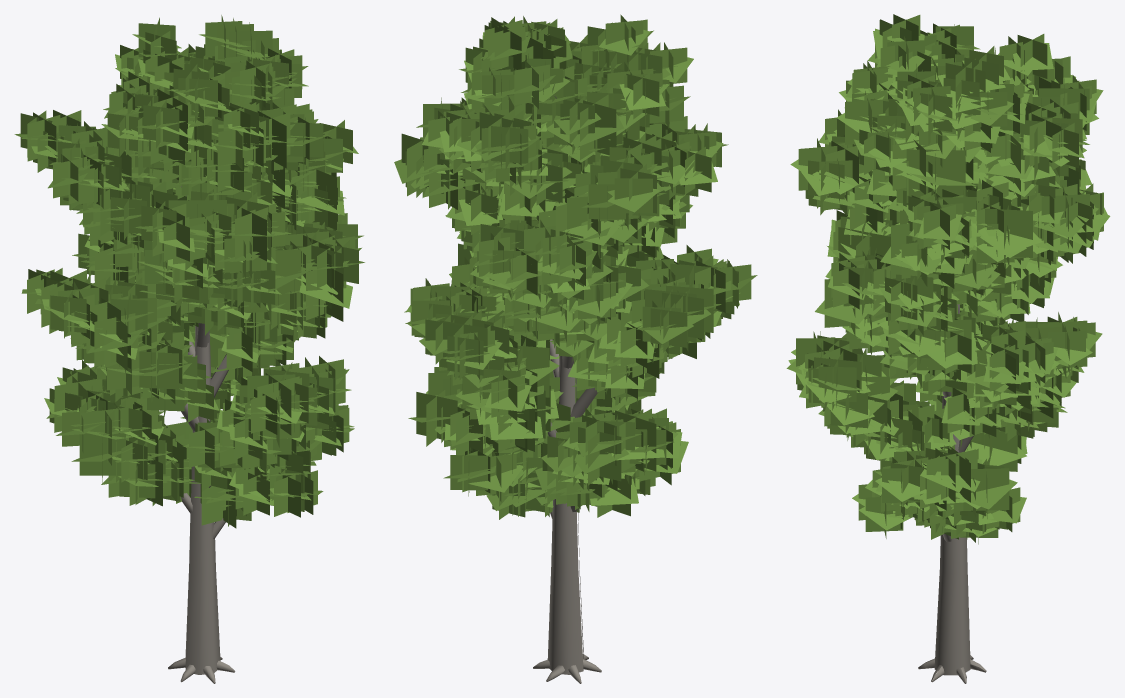
The model's file is tilleul_4_jeu.glb.
3 views of the same model, side by side, from view 1: azimuth 30°, elevation 25°; view 2: azimuth 150°, elevation 25°; view 3: azimuth 270°, elevation 25° (orthographic). The views are drawn at different scales.
Parts seen in each view (by area): view 1: Tilleul_T4_Leger; view 2: Tilleul_T4_Leger; view 3: Tilleul_T4_Leger.
Part boxes in pixels (x1,y1,x2,y2): Tilleul_T4_Leger: (14,15,364,683); Tilleul_T4_Leger: (394,14,757,683); Tilleul_T4_Leger: (786,14,1110,683).
Bounding box in the file's own units: 8.96 × 17.31 × 7.98.
